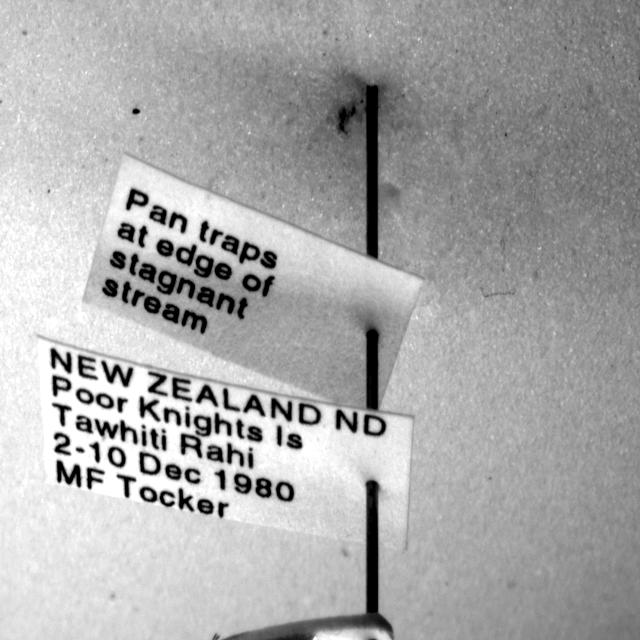typed_label: (84, 156, 422, 407), (38, 338, 412, 549)
